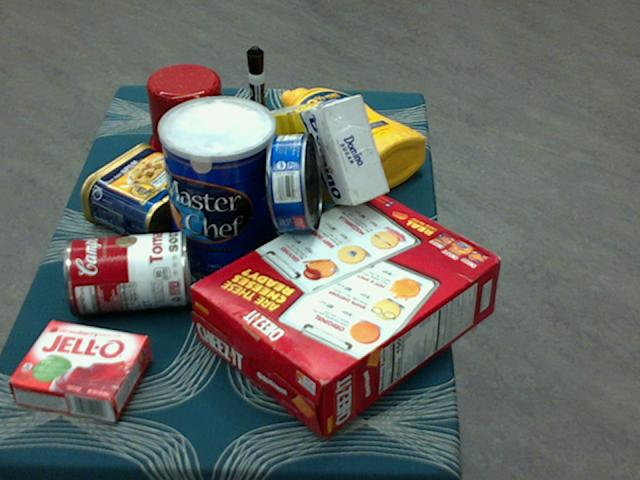cracker_box: (189, 186, 501, 436)
gelatin_box: (9, 318, 150, 421)
large_marker: (246, 45, 267, 149)
master_chef_can: (157, 98, 278, 283)
mug: (146, 64, 230, 165)
mustard_bottle: (279, 86, 425, 192)
potted_meat_can: (80, 143, 211, 246)
sugar_box: (256, 96, 388, 206)
tomato_soup_can: (62, 232, 188, 312)
tuna_fish_can: (266, 131, 322, 229)
